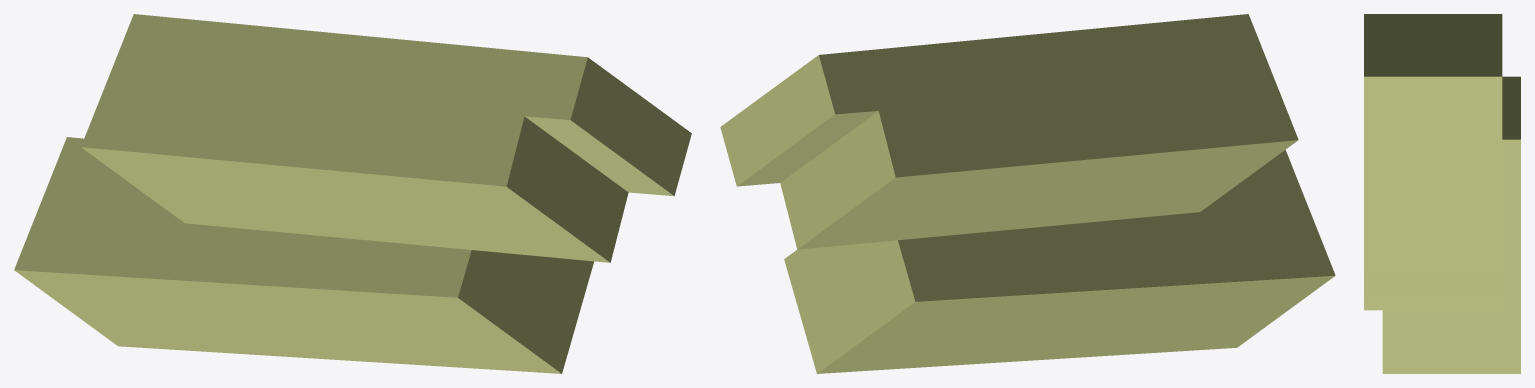
3 views of the same model, side by side, from view 1: azimuth 30°, elevation 25°; view 2: azimuth 150°, elevation 25°; view 3: azimuth 270°, elevation 25° (orthographic). The views are drawn at different scales.
Visible parts, largest first — view 1: 0_1_0_0_2_1_0_2_0_1; view 2: 0_1_0_0_2_1_0_2_0_1; view 3: 0_1_0_0_2_1_0_2_0_1.
Part boxes in pixels (left/top/right/bottom): 0_1_0_0_2_1_0_2_0_1: left=14, top=14, right=691, bottom=373; 0_1_0_0_2_1_0_2_0_1: left=720, top=14, right=1335, bottom=373; 0_1_0_0_2_1_0_2_0_1: left=1364, top=14, right=1520, bottom=373.
Size of the model in its own units: 18.64 by 11.98 by 6.8.
